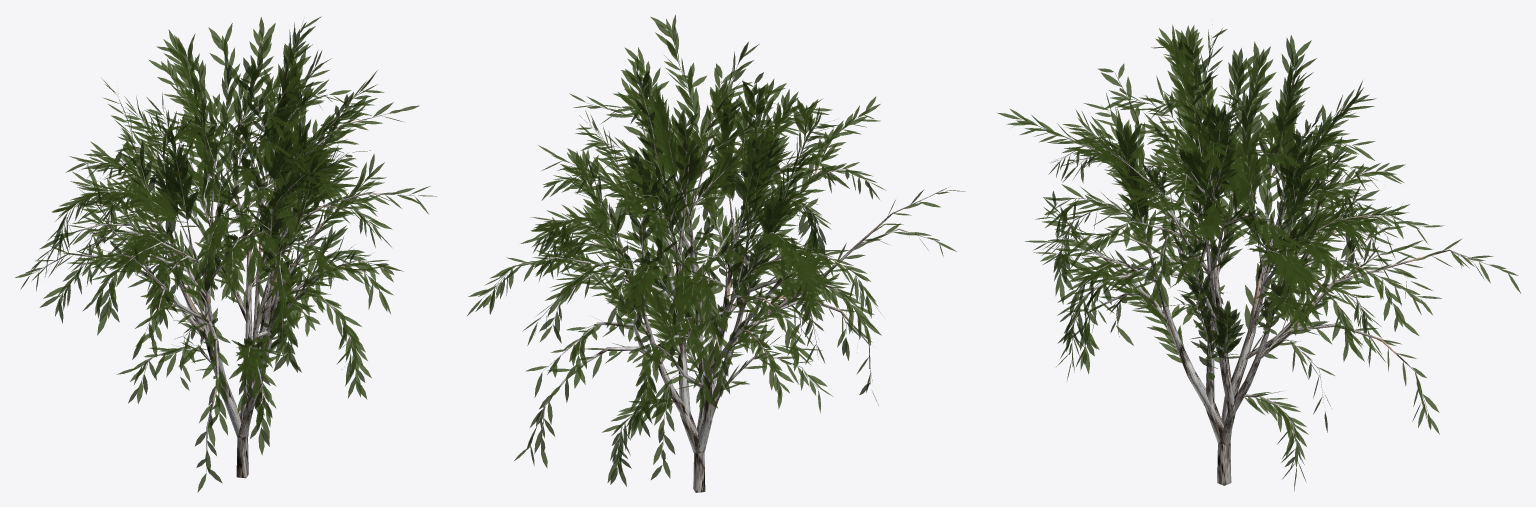
File: Light Wood Tree 1.fbx
The picture shows the model from 3 angles, left to right: view 1: azimuth 30°, elevation 25°; view 2: azimuth 150°, elevation 25°; view 3: azimuth 270°, elevation 25°; orthographic projection. The views are drawn at different scales.
Parts seen in each view (by area): view 1: leaves 1.002, Light Wood Tree 1; view 2: leaves 1.002, Light Wood Tree 1; view 3: leaves 1.002, Light Wood Tree 1.
Part boxes in pixels (x1=…): leaves 1.002: x1=15, y1=16, x2=437, y2=492; Light Wood Tree 1: x1=31, y1=31, x2=413, y2=478; leaves 1.002: x1=467, y1=14, x2=965, y2=486; Light Wood Tree 1: x1=483, y1=31, x2=943, y2=492; leaves 1.002: x1=997, y1=24, x2=1520, y2=491; Light Wood Tree 1: x1=1023, y1=36, x2=1497, y2=485.
Size of the model in its own units: 606 by 727 by 749.
